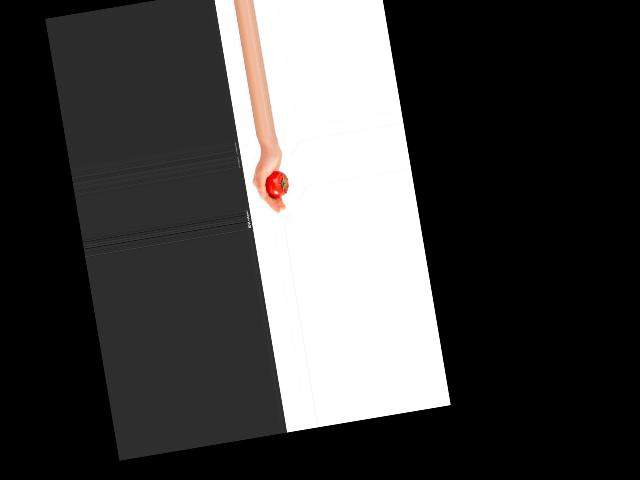tomato: (263, 168, 289, 198)
